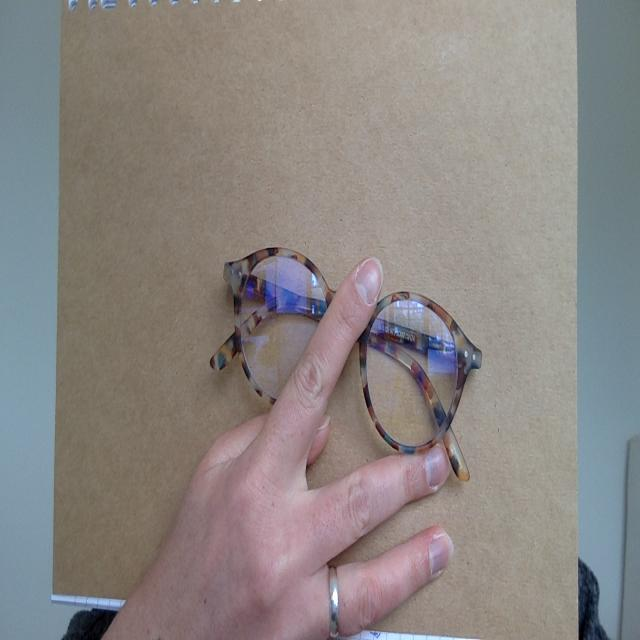glasses: (208, 226, 490, 494)
